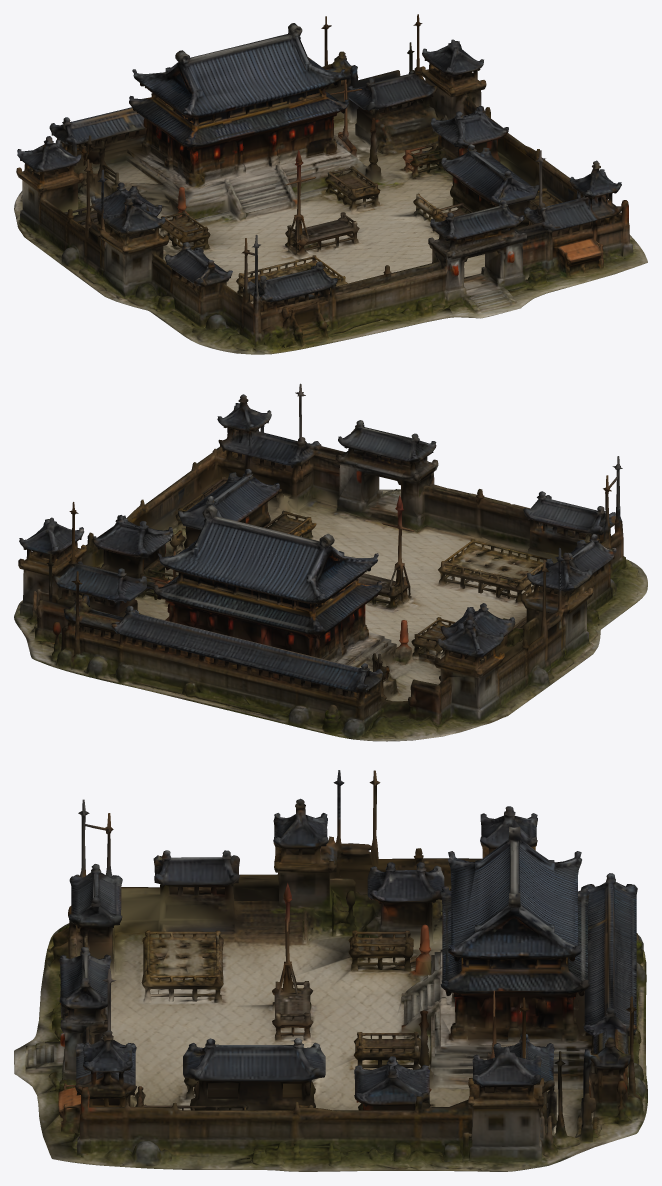
Rendered from LuoyangStation.glb.
3 renders of one model, top to bottom at view 1: azimuth 30°, elevation 25°; view 2: azimuth 150°, elevation 25°; view 3: azimuth 270°, elevation 25°, orthographic. The views are drawn at different scales.
Visible parts, largest first — view 1: node_0; view 2: node_0; view 3: node_0.
Boxes of the visible parts, x1=… form: node_0: x1=14, y1=14, x2=647, y2=354; node_0: x1=14, y1=383, x2=647, y2=741; node_0: x1=14, y1=770, x2=647, y2=1171.
Bounding box in the file's own units: 0.9411 × 0.27 × 0.914.
Materials: 1 (1 with a texture image).
